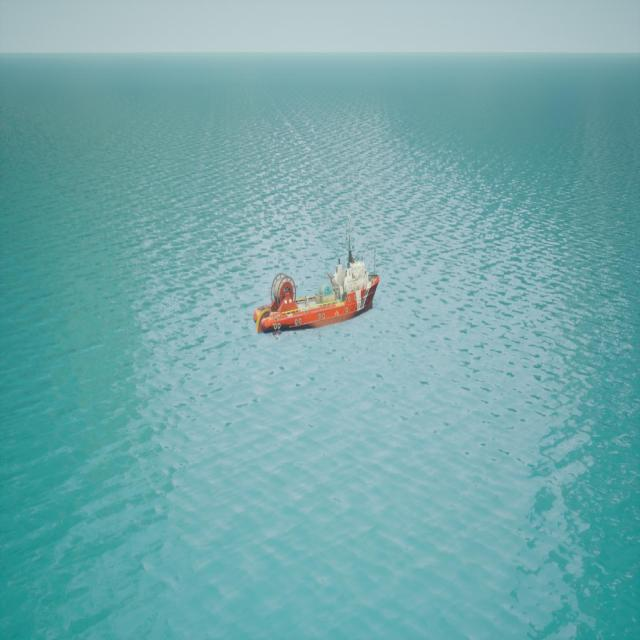tug boat: (257, 261, 385, 337)
